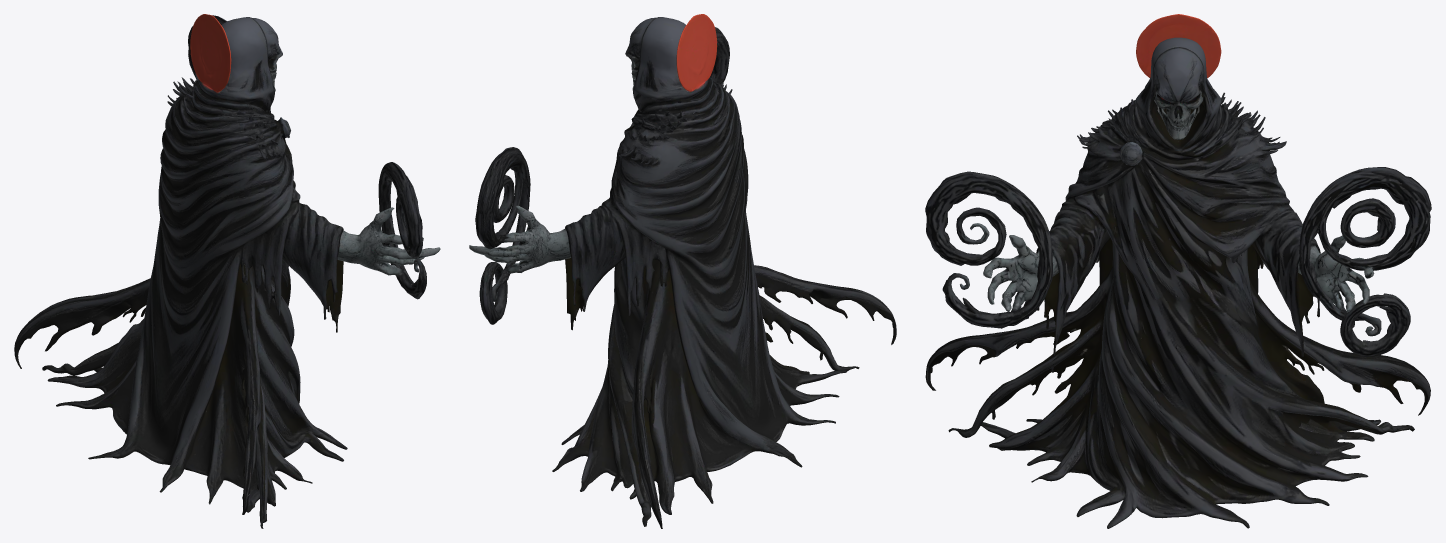
The model's file is shadowlord.glb.
The picture shows the model from 3 angles, left to right: view 1: azimuth 30°, elevation 25°; view 2: azimuth 150°, elevation 25°; view 3: azimuth 270°, elevation 25°; orthographic projection. The views are drawn at different scales.
Visible parts, largest first — view 1: tripo_node_11767cf4-7fad-4351-9e4a-e7d29b8e413f; view 2: tripo_node_11767cf4-7fad-4351-9e4a-e7d29b8e413f; view 3: tripo_node_11767cf4-7fad-4351-9e4a-e7d29b8e413f.
Boxes of the visible parts, x1=… form: tripo_node_11767cf4-7fad-4351-9e4a-e7d29b8e413f: x1=14, y1=14, x2=440, y2=528; tripo_node_11767cf4-7fad-4351-9e4a-e7d29b8e413f: x1=469, y1=14, x2=896, y2=528; tripo_node_11767cf4-7fad-4351-9e4a-e7d29b8e413f: x1=925, y1=14, x2=1431, y2=528.
Bounding box in the file's own units: 0.6217 × 1 × 0.992.
1 material, 1 textured.
